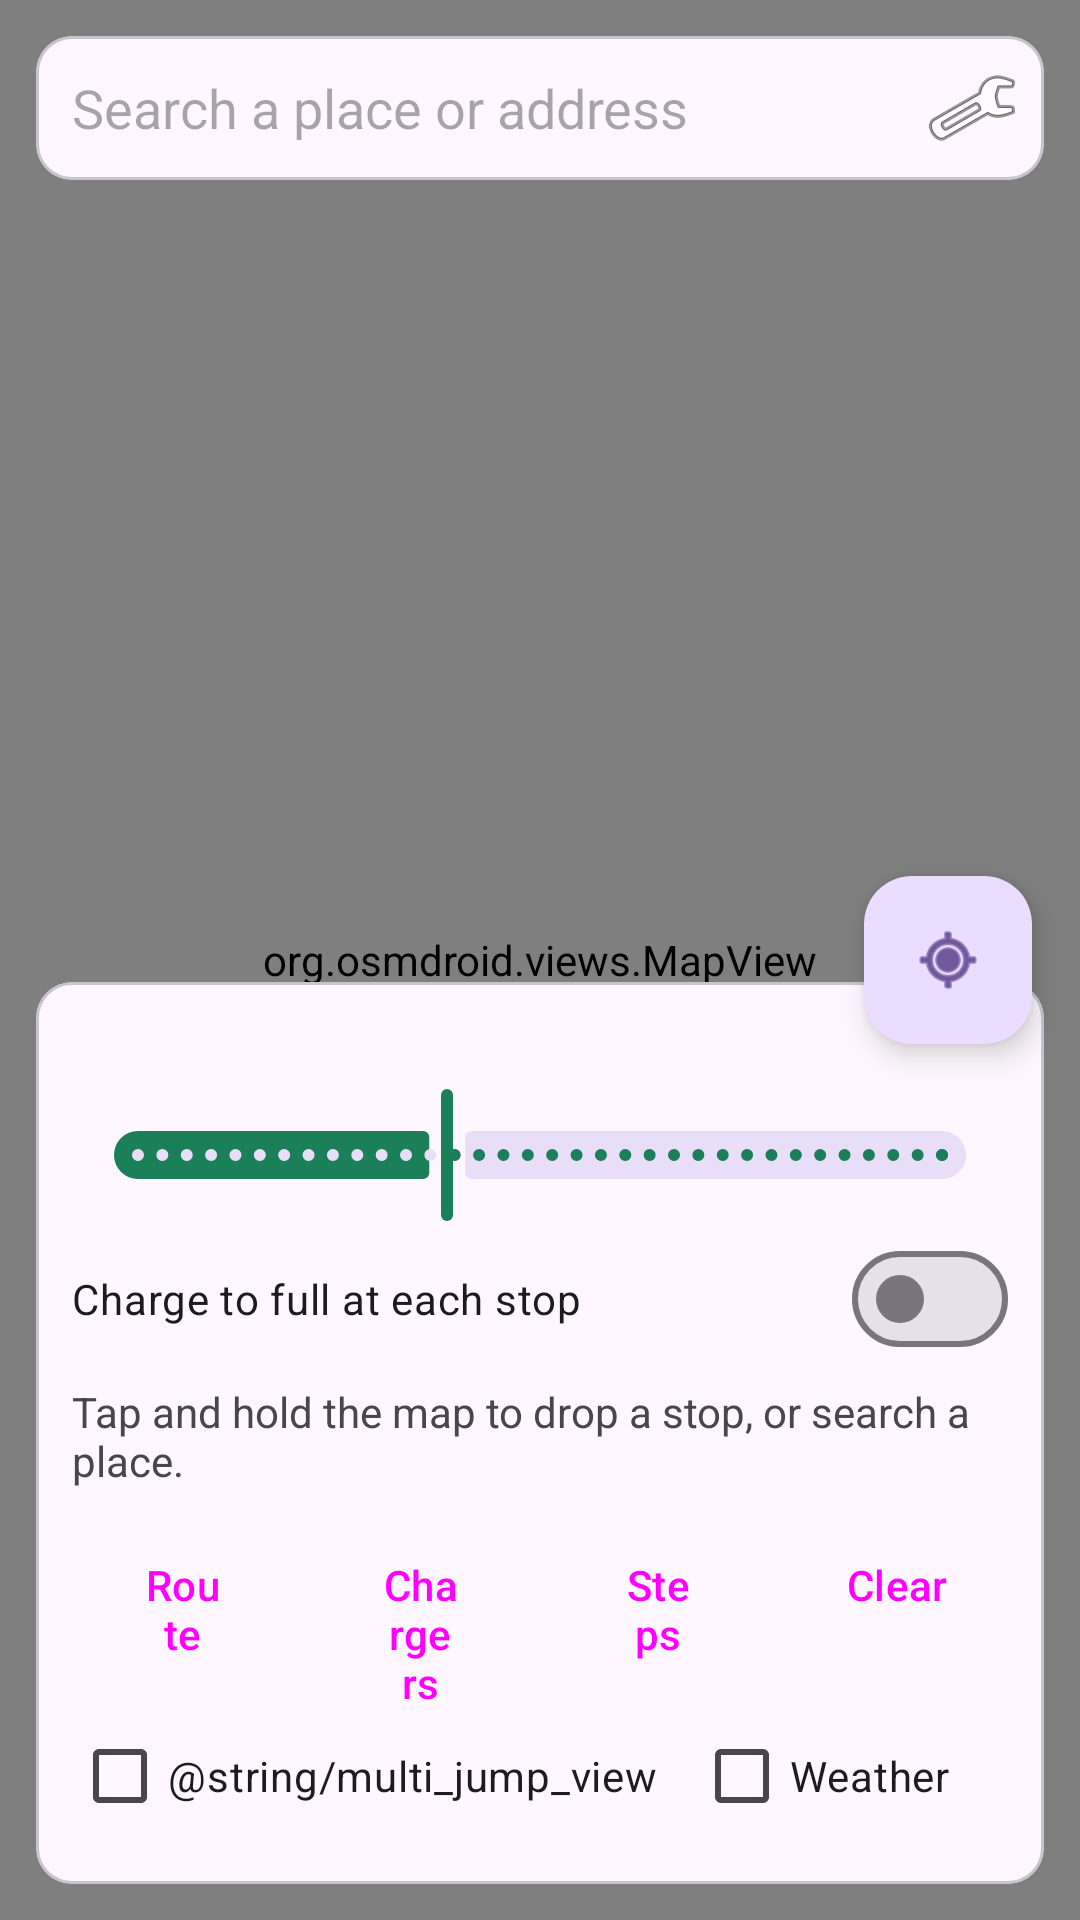

Where to tap for icons on this 1080×1920 app screen, as [x,y]:
My location: [948,960]
Settings: [972,108]
